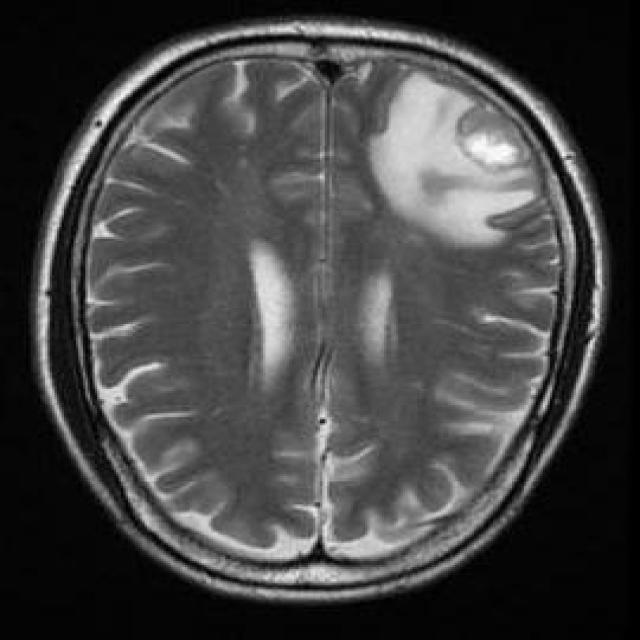brain tumor: (367, 69, 548, 247)
